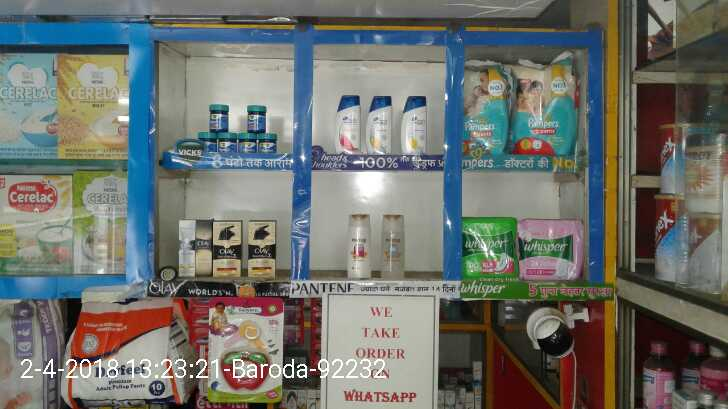vicks: (238, 132, 259, 160), (198, 132, 220, 156), (210, 104, 230, 129), (259, 132, 276, 159), (248, 105, 265, 131), (220, 132, 234, 157)
